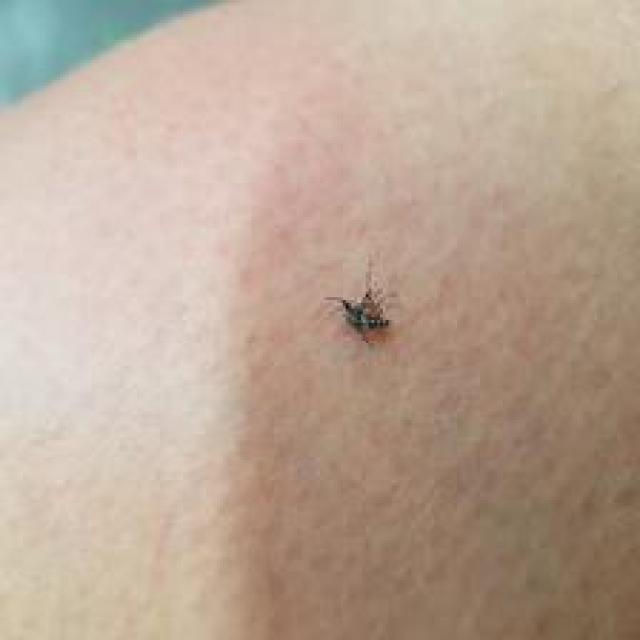Aedes albopictus: (323, 253, 397, 347)
